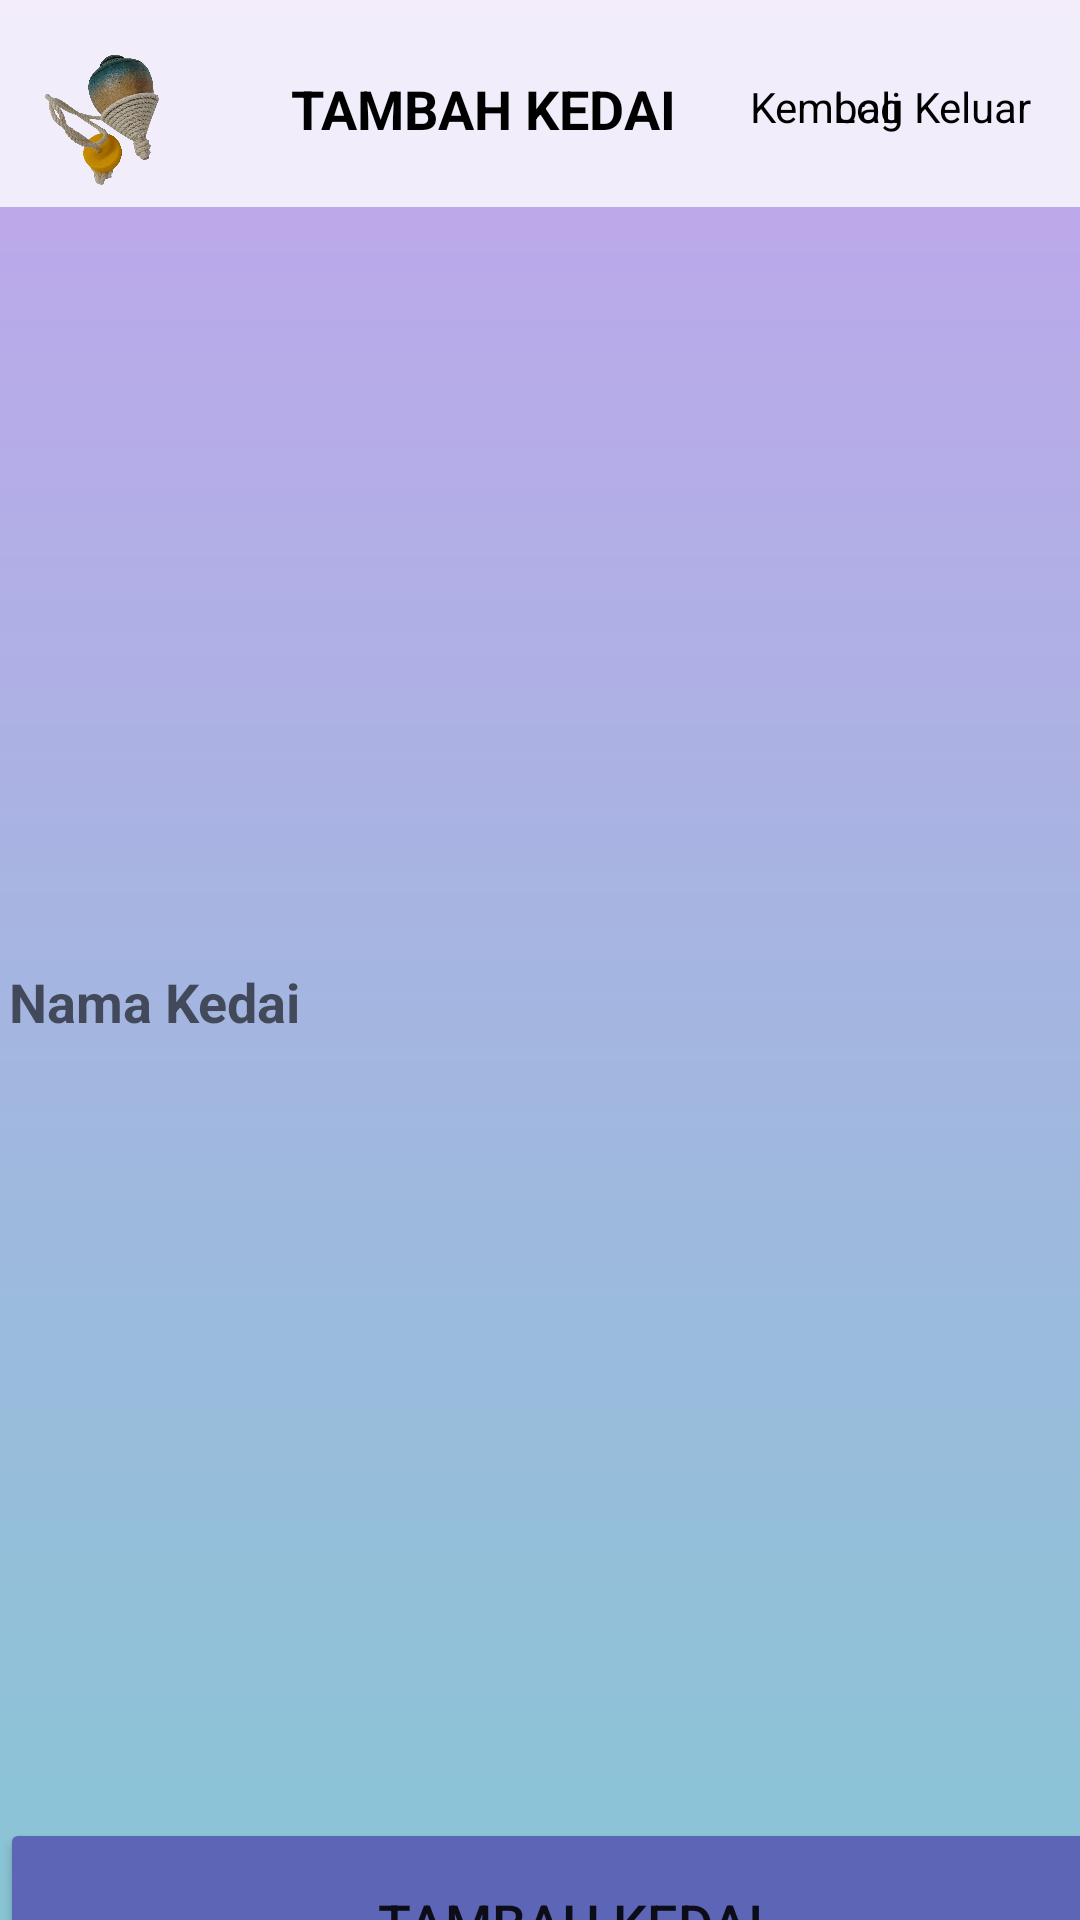

Screen size 1080px x 1920px. Icon name, then its center in pixels as (x=x, y=y):
gasing: (x=102, y=120)
